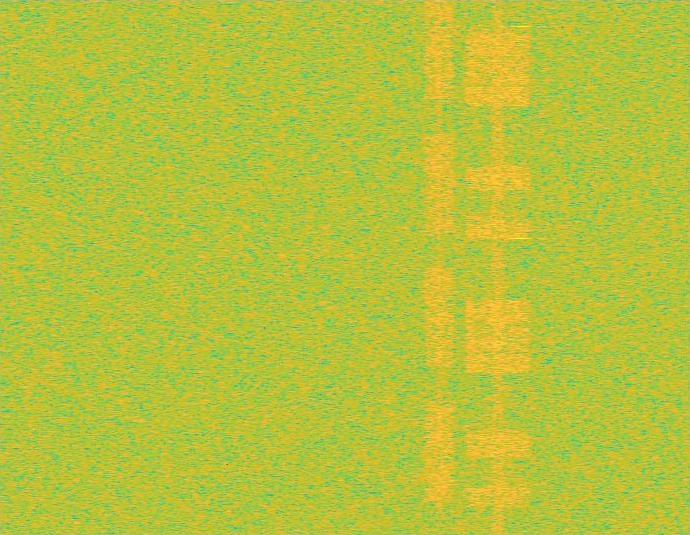5G: (422, 0, 457, 534)
DSSS: (490, 0, 506, 534), (437, 0, 442, 534)
LTE: (464, 0, 533, 534)
Radar: (514, 0, 528, 534)
